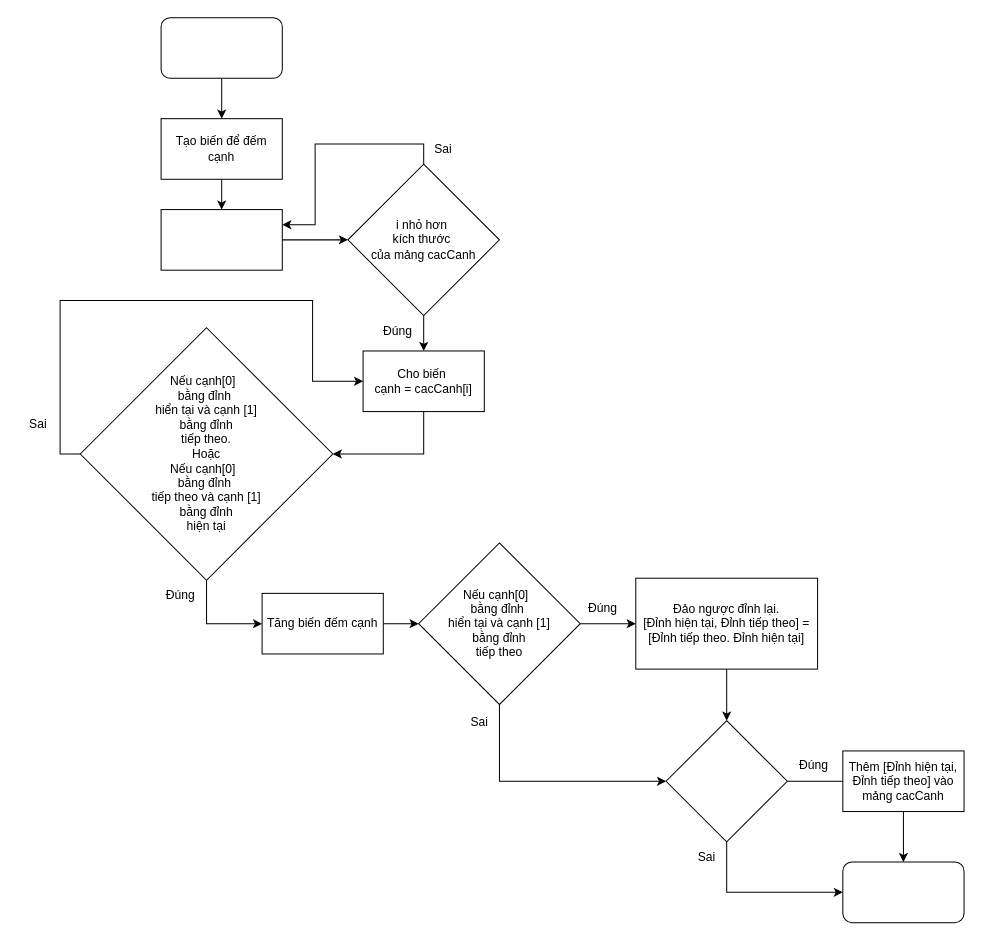
Some shapes in this 982 by 940 pixel diagram are drawn without their labels. Each missing label, with the centre of its shape:
Bắt đầu thêm: the point at 221,47
Kết thúc: the point at 903,892
Nếu biến đếm cạnh nhỏ hơn 2: the point at 726,781
Vòng lặp i++: the point at 221,239
